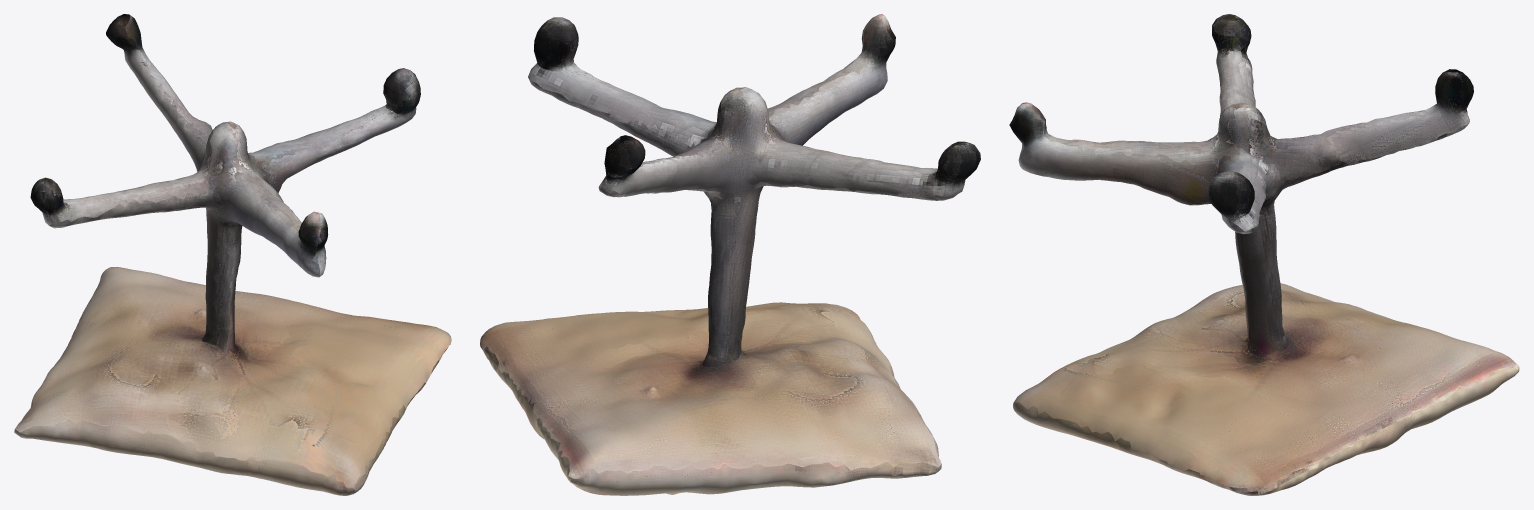
Rendered from 7_desk.glb.
The picture shows the model from 3 angles, left to right: view 1: azimuth 30°, elevation 25°; view 2: azimuth 150°, elevation 25°; view 3: azimuth 270°, elevation 25°; orthographic projection. The views are drawn at different scales.
Parts seen in each view (by area): view 1: 7_desk.obj; view 2: 7_desk.obj; view 3: 7_desk.obj.
Boxes of the visible parts, x1=… form: 7_desk.obj: x1=14, y1=14, x2=451, y2=495; 7_desk.obj: x1=480, y1=14, x2=980, y2=495; 7_desk.obj: x1=1009, y1=14, x2=1519, y2=495.
Size of the model in its own units: 1.66 by 1.26 by 1.68.
1 material, 1 textured.
